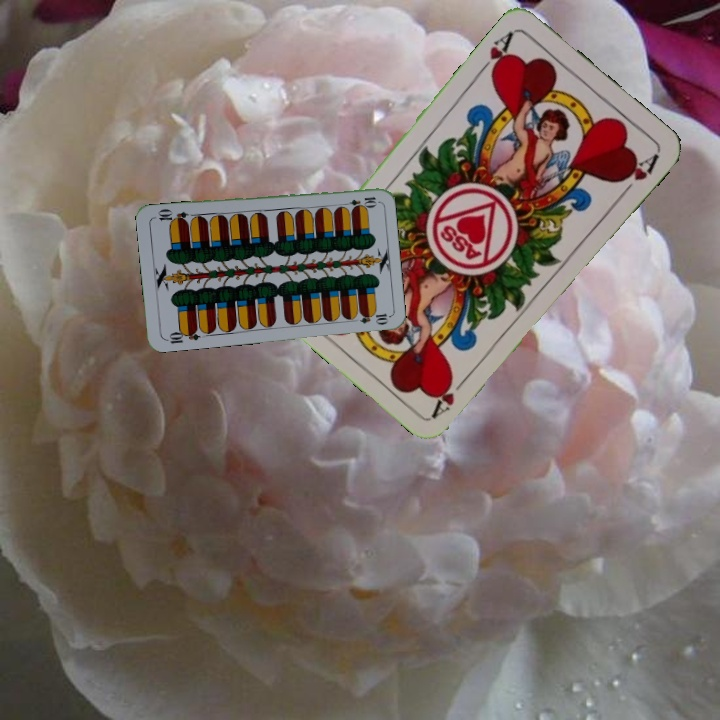E10: (162, 325, 202, 346), (338, 193, 379, 210)
HA: (474, 27, 517, 80), (428, 370, 472, 420)
